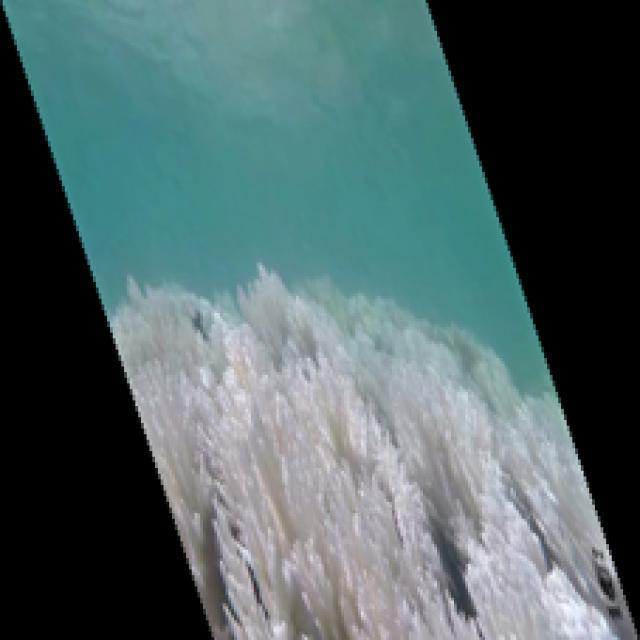Bleached: (110, 264, 636, 640)
